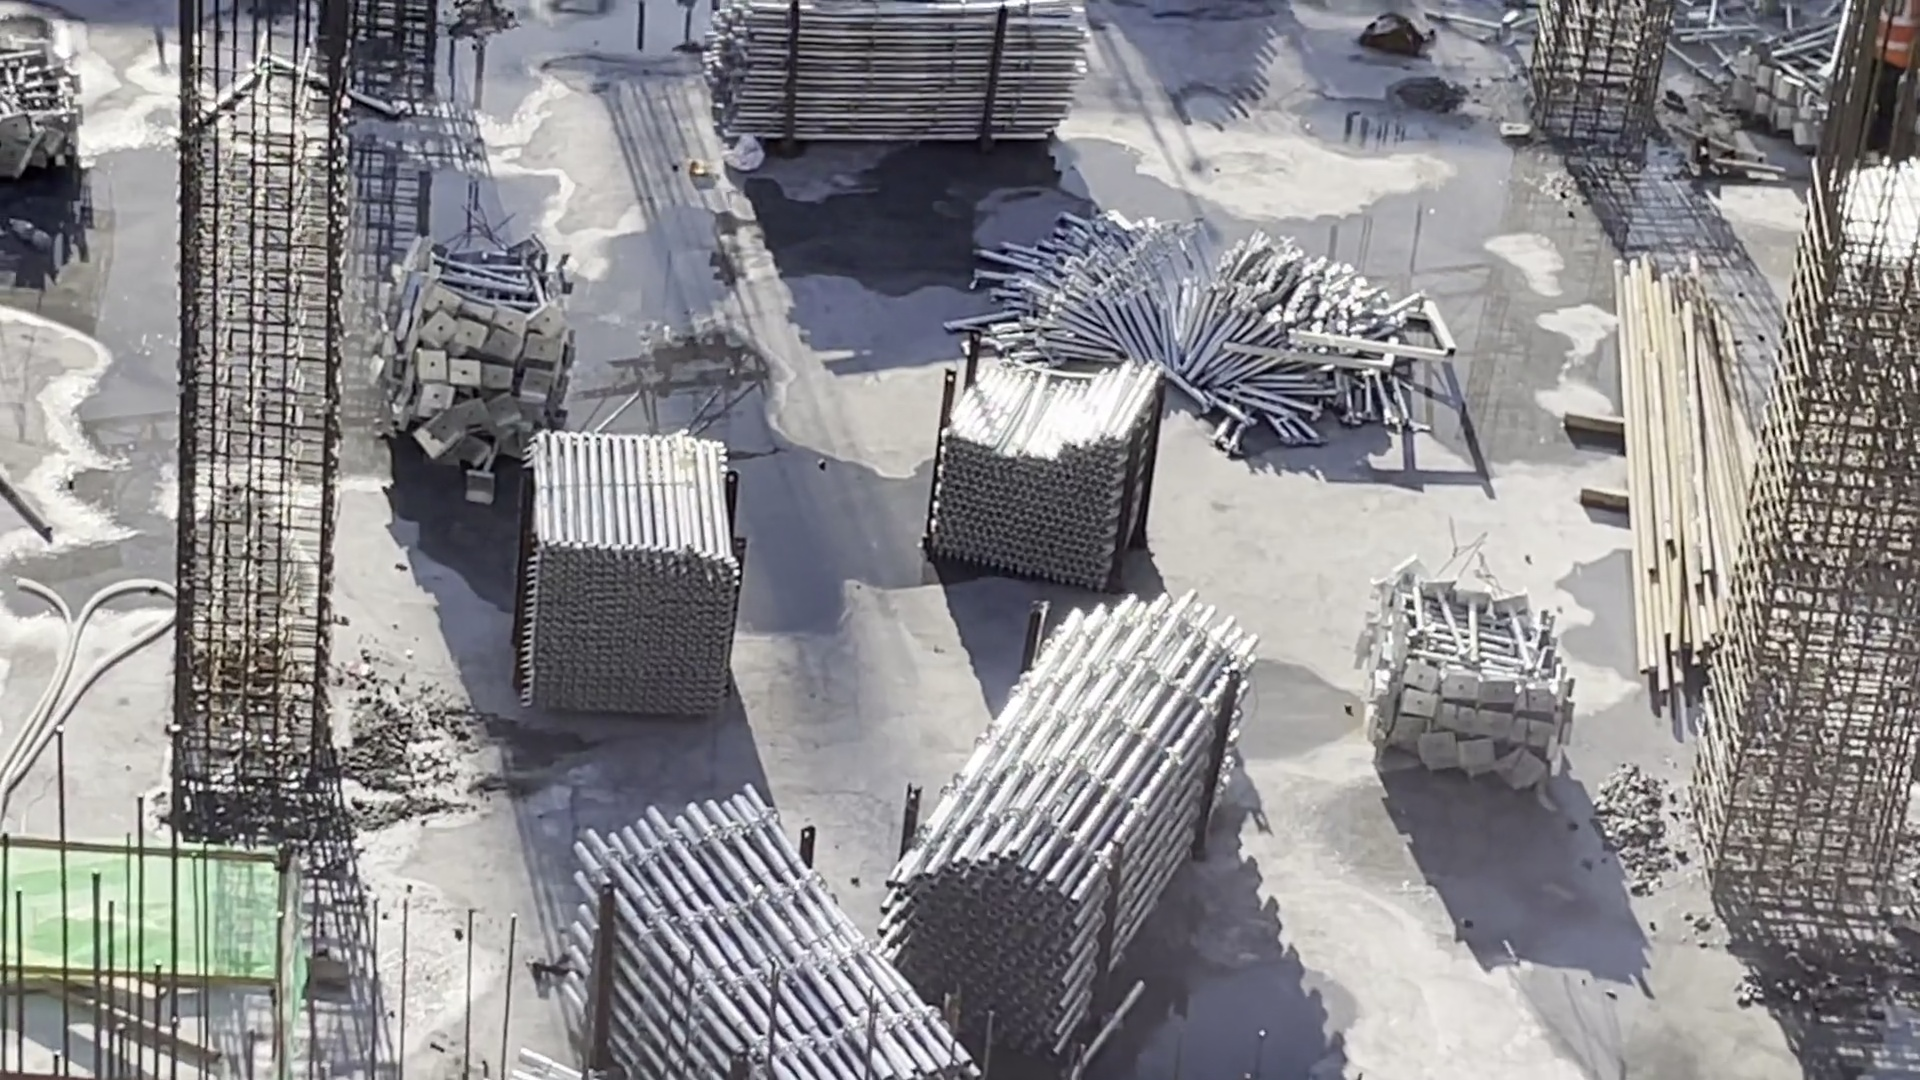scaffold: (911, 604, 1247, 1013), (568, 795, 978, 1080), (1010, 222, 1389, 435), (516, 431, 737, 723), (1371, 554, 1604, 796), (709, 1, 1084, 145), (936, 342, 1149, 583), (396, 225, 572, 485), (1727, 42, 1859, 150), (1, 44, 100, 175)
